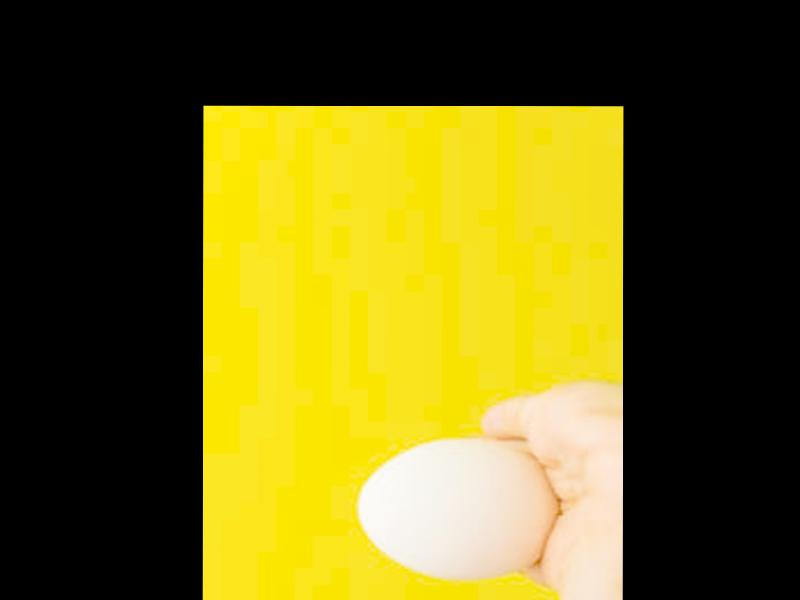Eggs: (356, 439, 556, 574)
